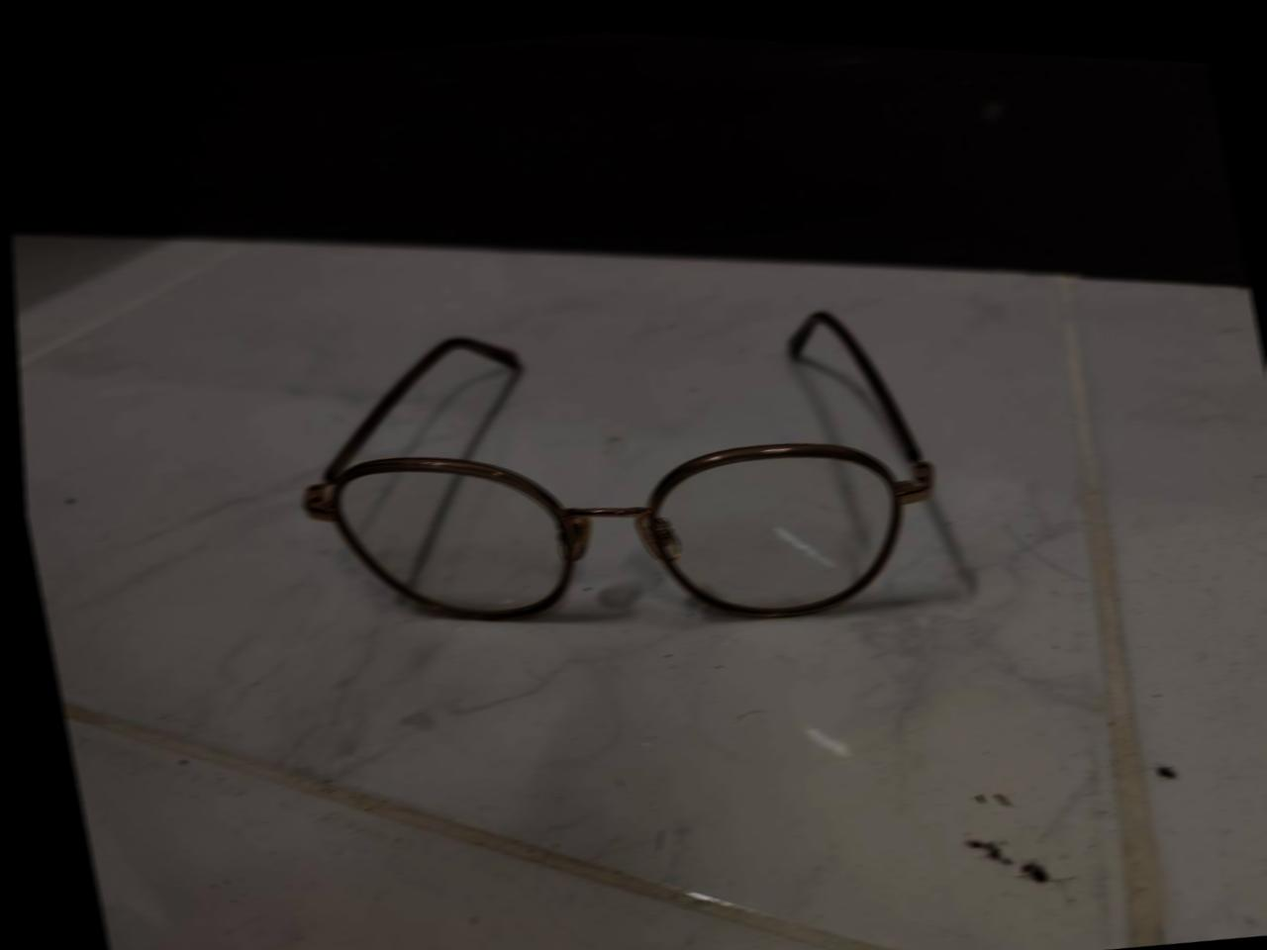glasses: (248, 250, 972, 703)
